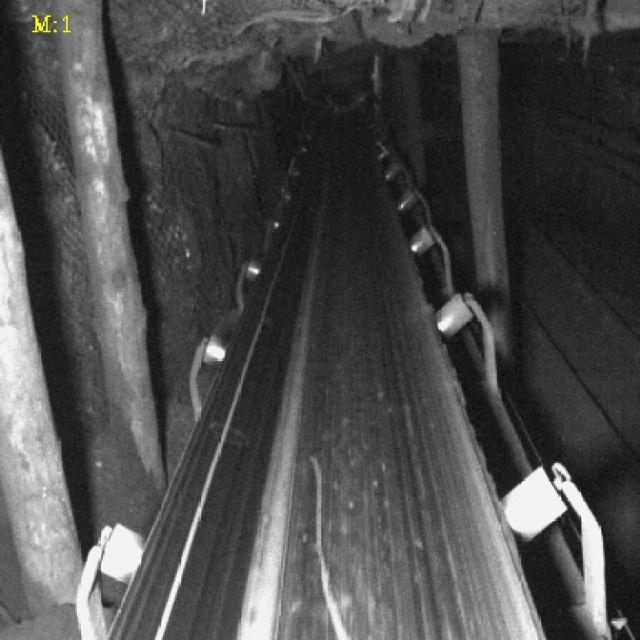bolt: (311, 454, 346, 640)
